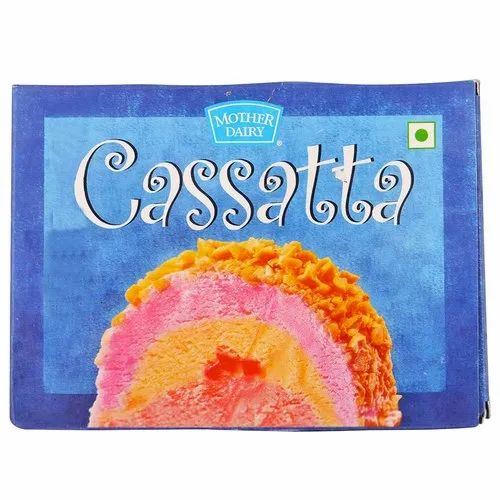Mother_Dairy: (197, 96, 292, 152)
